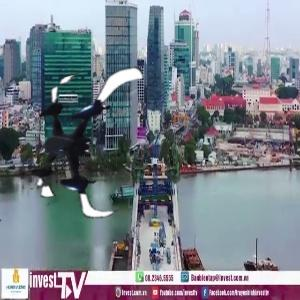drone: (7, 71, 161, 225)
